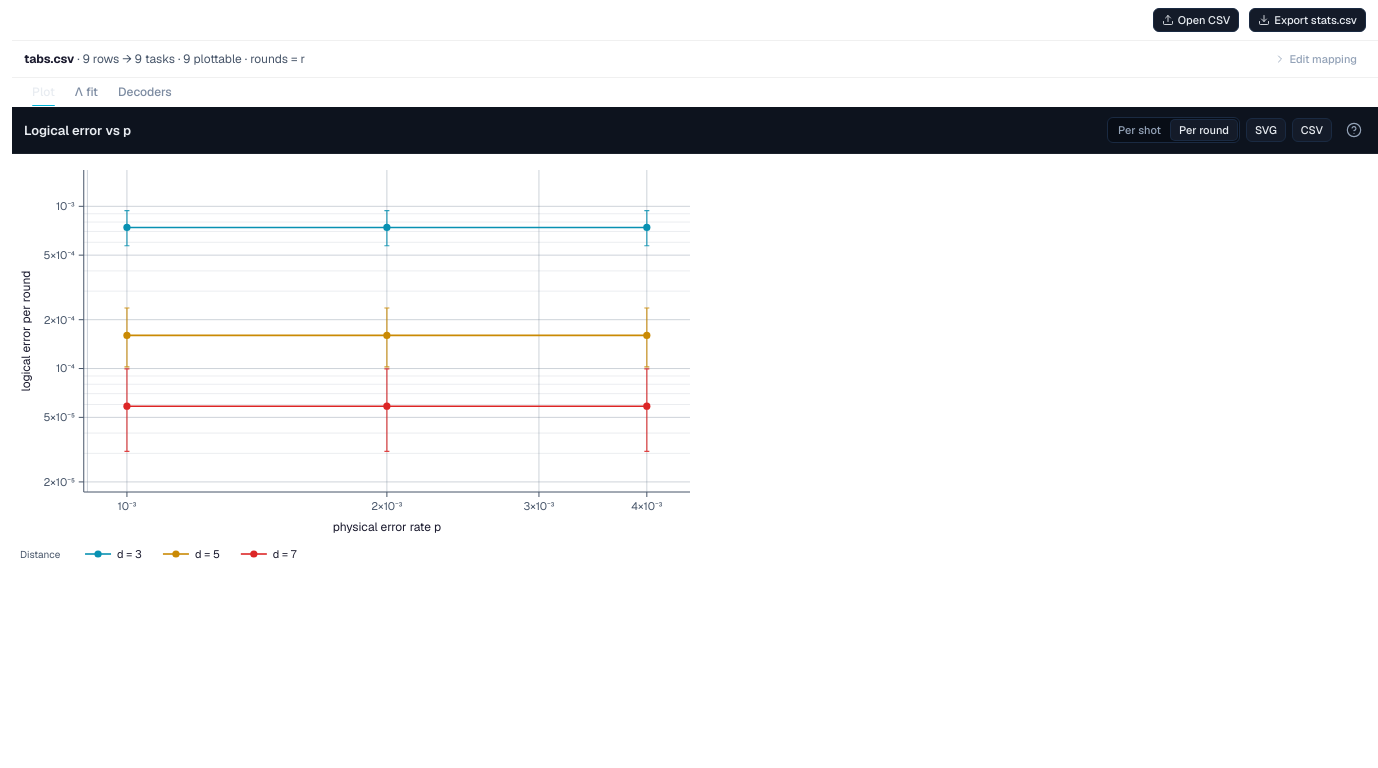
Test: short windows show one analysis section at a time (qec-09) › switches to the Λ readout and to the decoder table
Click the tab "Λ fit" at [86, 92], box [67, 78, 106, 106]
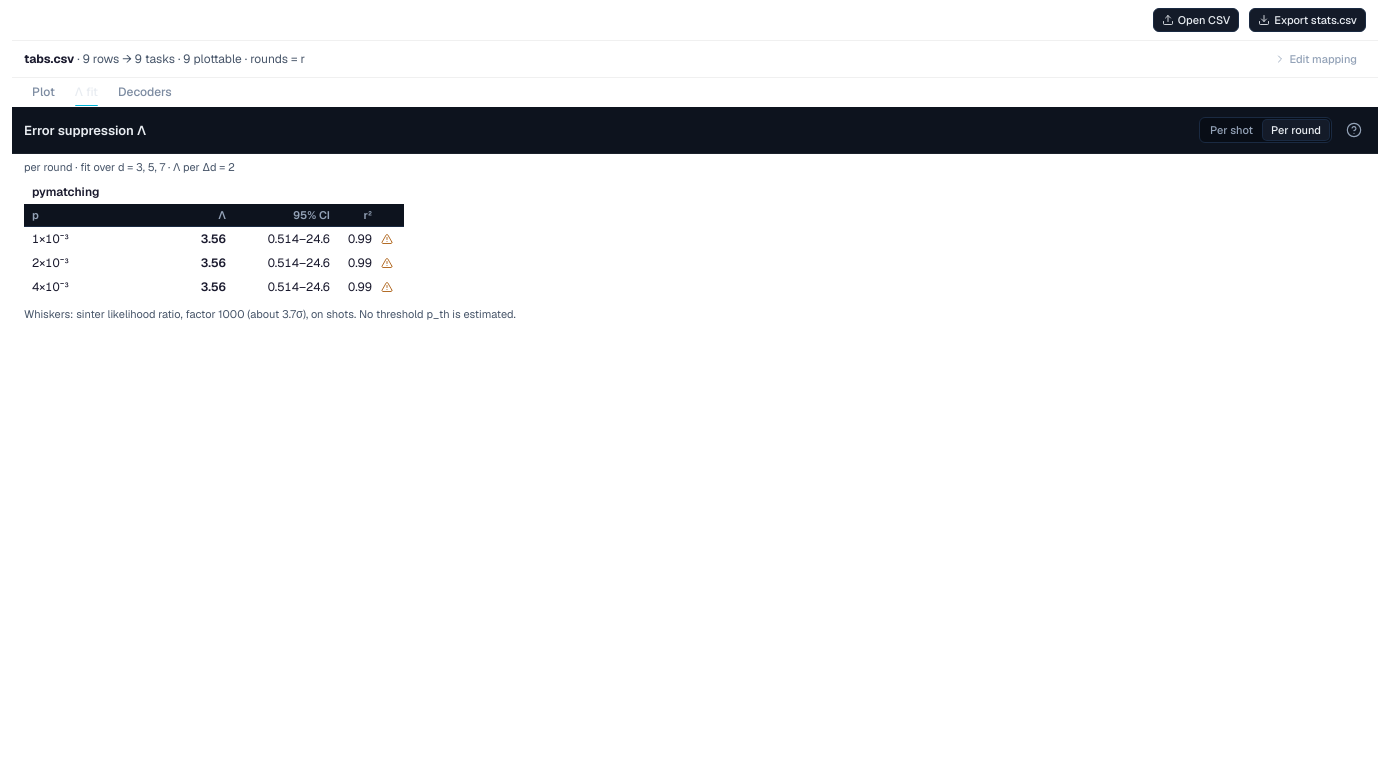
Expected: the element named "Error suppression factor Λ" is shown, [24, 160, 404, 295]
Click the tab "Decoders" at [145, 92], box [110, 78, 180, 106]
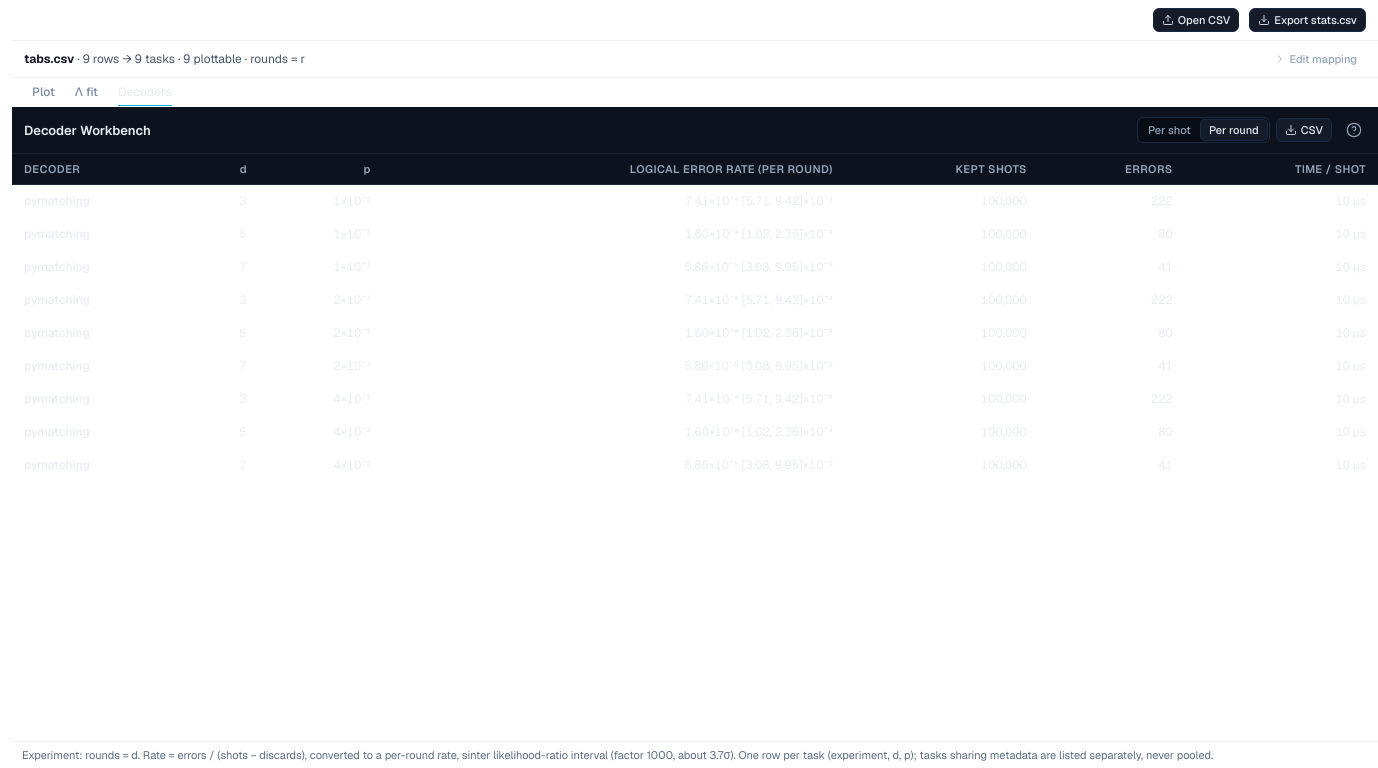
Expected: the table named "Decoder comparison" is shown, [12, 154, 1377, 481]
